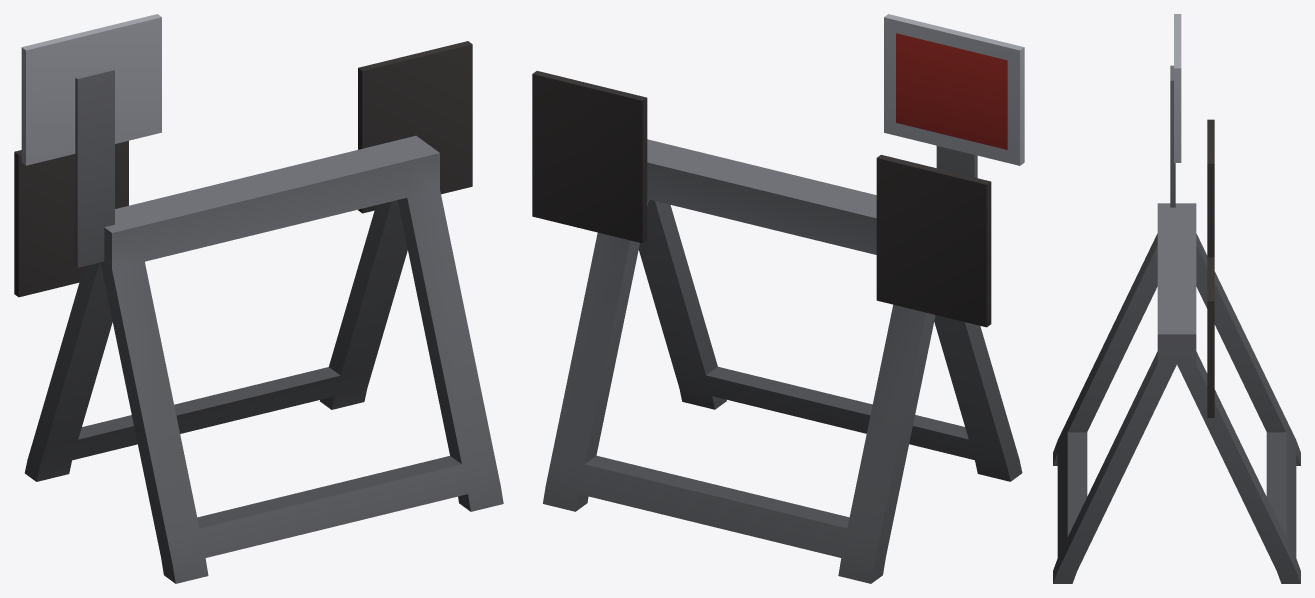
Rendered from peregorodka2.fbx.
The picture shows the model from 3 angles, left to right: view 1: azimuth 30°, elevation 25°; view 2: azimuth 150°, elevation 25°; view 3: azimuth 270°, elevation 25°; orthographic projection. The views are drawn at different scales.
Visible parts, largest first — view 1: Cube.049; view 2: Cube.049; view 3: Cube.049.
Boxes of the visible parts, x1=… form: Cube.049: x1=14, y1=14, x2=503, y2=583; Cube.049: x1=532, y1=14, x2=1024, y2=583; Cube.049: x1=1053, y1=14, x2=1300, y2=583.
Size of the model in its own units: 931 by 949 by 522.
